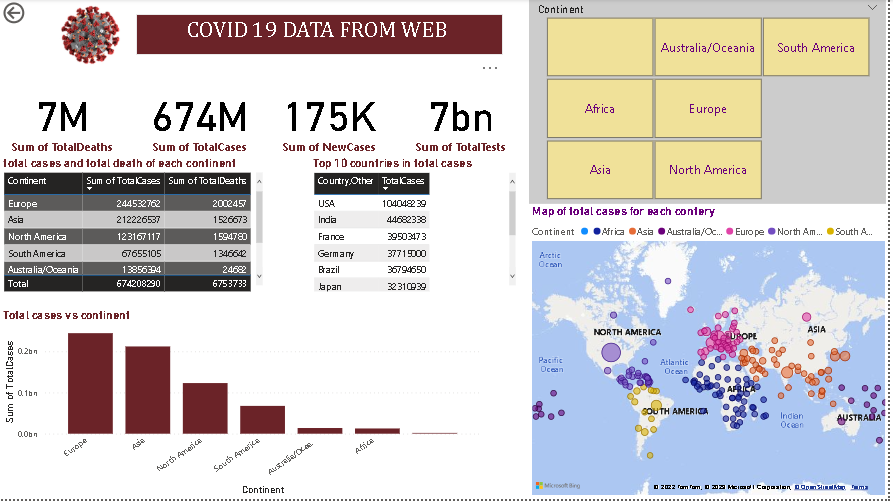

The dashboard page shown, as its layout file describes it:
{"tool":"powerbi","page":{"name":"Page 1","canvas":[1280,720],"ordinal":0},"visuals":[{"type":"map","title":"Map of total cases for each contery ","fields":{"Category":["Table 1.Country,Other"],"Size":["Sum(Table 1.TotalCases)"],"Series":["Table 1.Continent"]},"box":[761.8,295.2,518.4,424.8],"z":0},{"type":"actionButton","box":[0,0,100,40],"z":1000},{"type":"card","fields":{"Values":["Sum(Table 1.TotalCases)"]},"box":[191.5,118.1,191.5,108],"z":2000},{"type":"card","fields":{"Values":["Sum(Table 1.TotalDeaths)"]},"box":[0,118.1,180,108],"z":3000},{"type":"slicer","fields":{"Values":["Table 1.Continent"]},"box":[761.8,0,514.1,295.2],"z":4000},{"type":"card","fields":{"Values":["Sum(Table 1.TotalTests)"]},"box":[567.4,118.1,194.4,108],"z":5000},{"type":"card","fields":{"Values":["Sum(Table 1.NewCases)"]},"box":[383,118.1,184.3,108],"z":6000},{"type":"tableEx","title":"total cases and total death of each continent","fields":{"Values":["Table 1.Continent","Sum(Table 1.TotalCases)","Sum(Table 1.TotalDeaths)"]},"box":[0,226.1,383,200.2],"z":7000},{"type":"columnChart","title":"Total cases vs continent","fields":{"Category":["Table 1.Continent"],"Y":["Sum(Table 1.TotalCases)"]},"box":[0,445,698.4,275],"z":8000},{"type":"tableEx","title":"Top 10 countries in total cases","fields":{"Values":["Table 1.Country,Other","Table 1.TotalCases"]},"box":[446.4,226.1,301,200.2],"z":9000},{"type":"textbox","box":[195.8,21.6,528.5,59],"z":10000},{"type":"image","box":[80.6,0,99.4,102.2],"z":11000}]}

Visuals, with their boxes in screenshot pixels (x1, y1, x2, y2), scaled from the page's 1280x720 canvas onto the 893x501 screenshot:
"Map of total cases for each contery " map: x1=531 y1=205 x2=892 y2=500
actionButton: x1=0 y1=0 x2=70 y2=28
card - Sum(Table 1.TotalCases): x1=134 y1=82 x2=267 y2=157
card - Sum(Table 1.TotalDeaths): x1=0 y1=82 x2=126 y2=157
slicer - Table 1.Continent: x1=531 y1=0 x2=890 y2=205
card - Sum(Table 1.TotalTests): x1=396 y1=82 x2=531 y2=157
card - Sum(Table 1.NewCases): x1=267 y1=82 x2=396 y2=157
"total cases and total death of each continent" tableEx: x1=0 y1=157 x2=267 y2=297
"Total cases vs continent" columnChart: x1=0 y1=310 x2=487 y2=500
"Top 10 countries in total cases" tableEx: x1=311 y1=157 x2=521 y2=297
textbox: x1=137 y1=15 x2=505 y2=56
image: x1=56 y1=0 x2=126 y2=71
